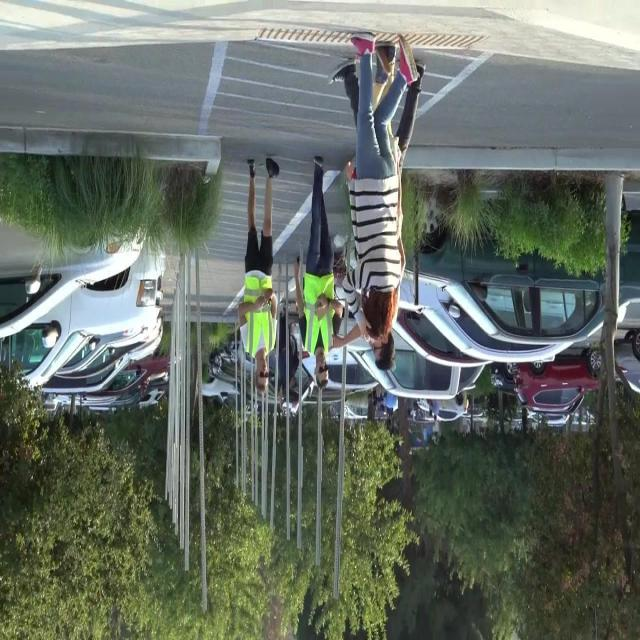jacket: (236, 272, 282, 358), (296, 274, 341, 359)
